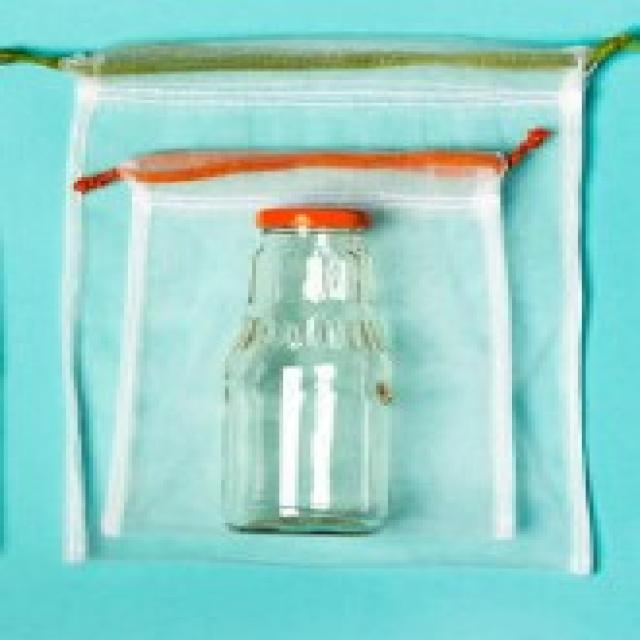electronic: (218, 204, 400, 538)
